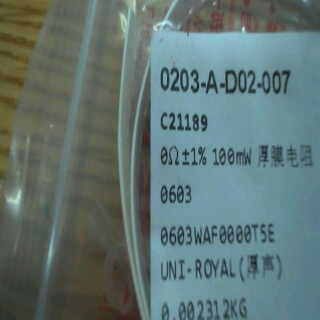0R: (158, 140, 257, 206)
